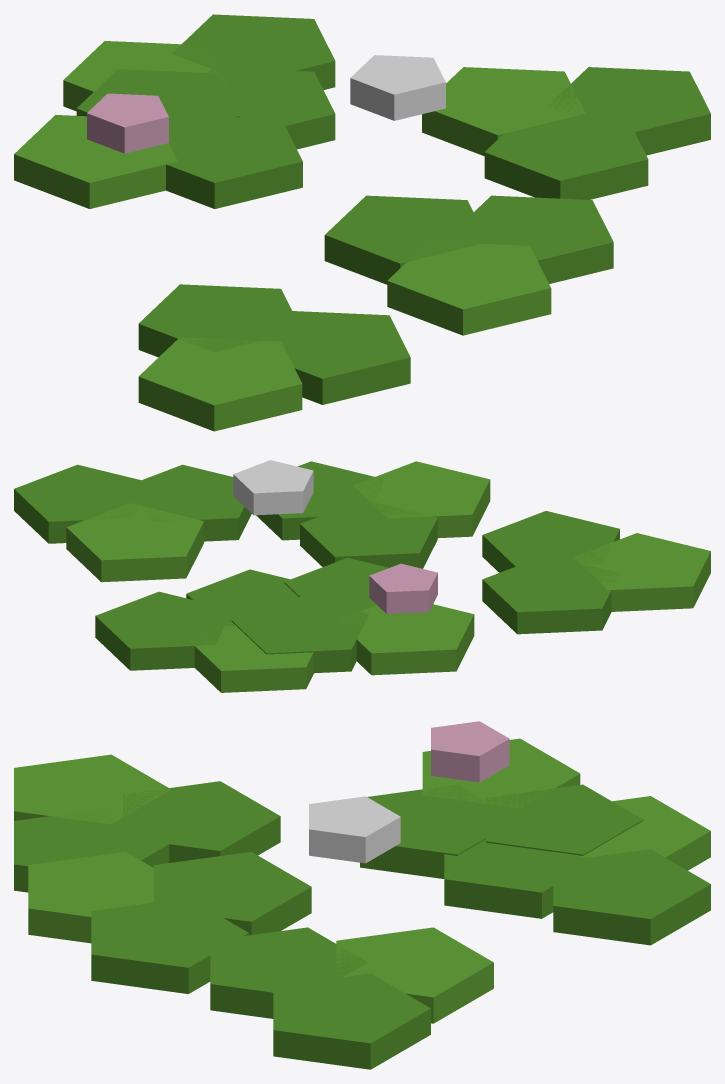
File: p_clover.glb
3 views of the same model, one above another, from view 1: azimuth 30°, elevation 25°; view 2: azimuth 150°, elevation 25°; view 3: azimuth 270°, elevation 25° (orthographic). The views are drawn at different scales.
Visible parts, largest first — view 1: body; view 2: body; view 3: body.
Boxes of the visible parts, left/top/right/bottom form: body: left=14, top=14, right=710, bottom=431; body: left=14, top=460, right=710, bottom=692; body: left=14, top=721, right=710, bottom=1069.
Bounding box in the file's own units: 0.5439 × 0.1143 × 0.4799.
